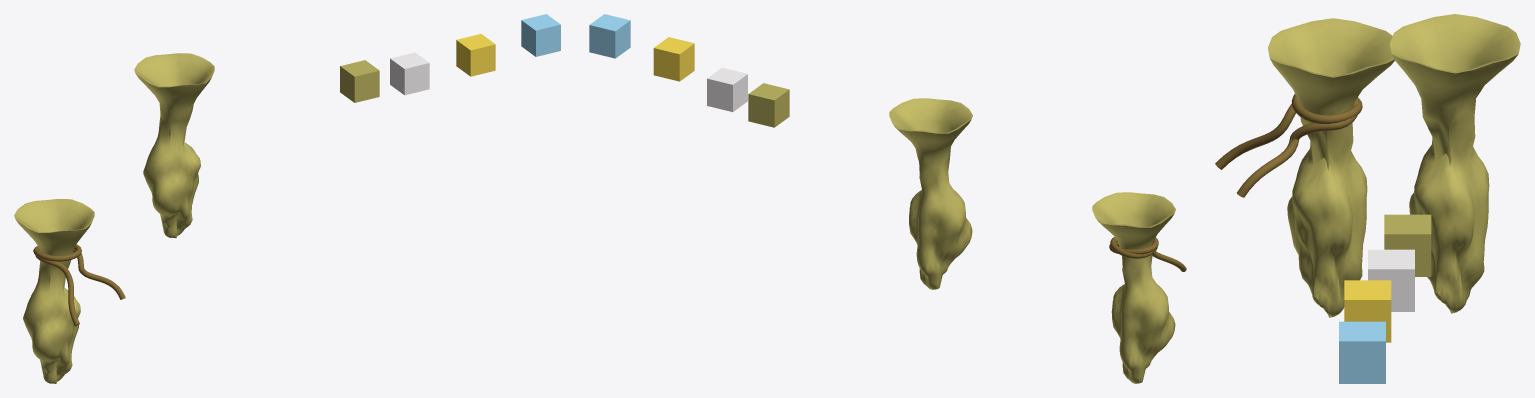
File: coin-pouch.glb
3 renders of one model, left to right at view 1: azimuth 30°, elevation 25°; view 2: azimuth 150°, elevation 25°; view 3: azimuth 270°, elevation 25°, orthographic. The views are drawn at different scales.
Visible parts, largest first — view 1: Icosphere, coin-pouch, mat-steel, mat-gold, mat-mithril, mat-wood, string; view 2: Icosphere, coin-pouch, mat-mithril, mat-gold, mat-wood, mat-steel, string; view 3: Icosphere, coin-pouch, string, mat-mithril, mat-steel, mat-wood, mat-gold.
Boxes of the visible parts, x1,y1,x2,y2 form: Icosphere: (134,53,214,238); coin-pouch: (14,199,94,383); mat-steel: (390,52,429,95); mat-gold: (456,34,495,76); mat-mithril: (521,14,560,56); mat-wood: (340,60,379,102); string: (33,244,125,326); Icosphere: (889,98,972,289); coin-pouch: (1092,192,1175,383); mat-mithril: (589,14,630,58); mat-gold: (653,37,694,81); mat-wood: (748,83,789,127); mat-steel: (707,67,747,111); string: (1109,237,1186,271); Icosphere: (1389,14,1520,313); coin-pouch: (1268,18,1394,317); string: (1215,94,1362,197); mat-mithril: (1339,321,1385,383); mat-steel: (1368,249,1414,311); mat-wood: (1384,214,1431,276); mat-gold: (1344,280,1391,342).
Size of the model in its own units: 8.63 by 3.77 by 2.6.
